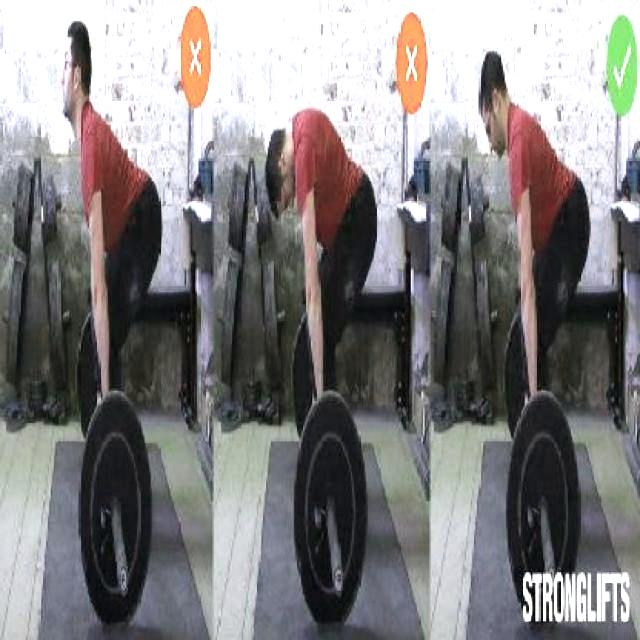barbell: (65, 389, 162, 635), (282, 389, 375, 640)
